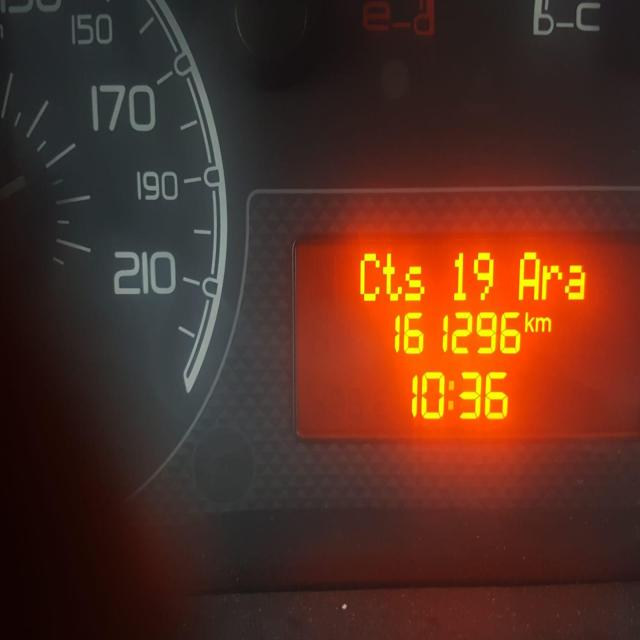odometer: (288, 225, 640, 449)
